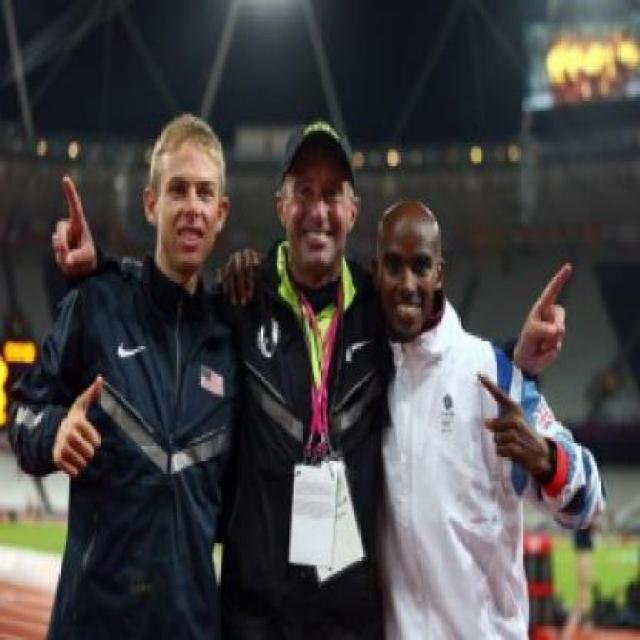Nike: (111, 332, 151, 360)
